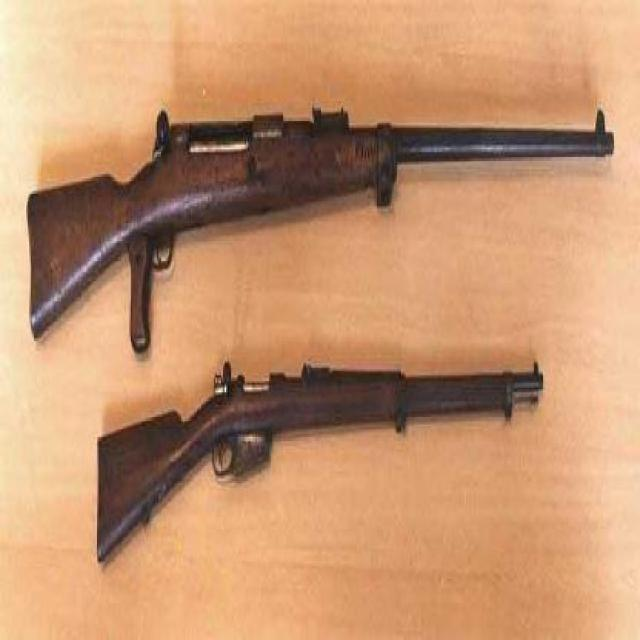weapon: (24, 110, 610, 338), (95, 361, 542, 544)
